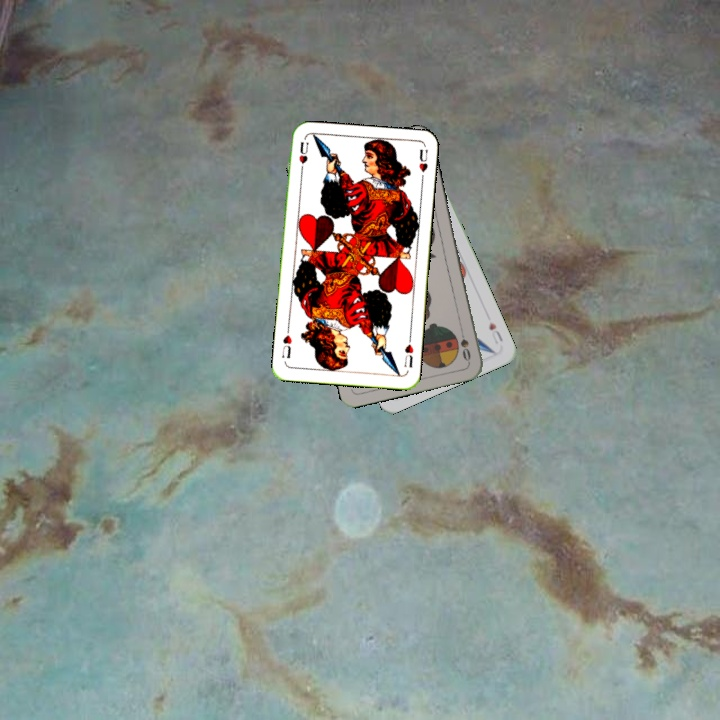HU: (295, 138, 311, 176), (400, 333, 416, 370), (485, 318, 505, 347)
SO: (456, 324, 473, 364)
